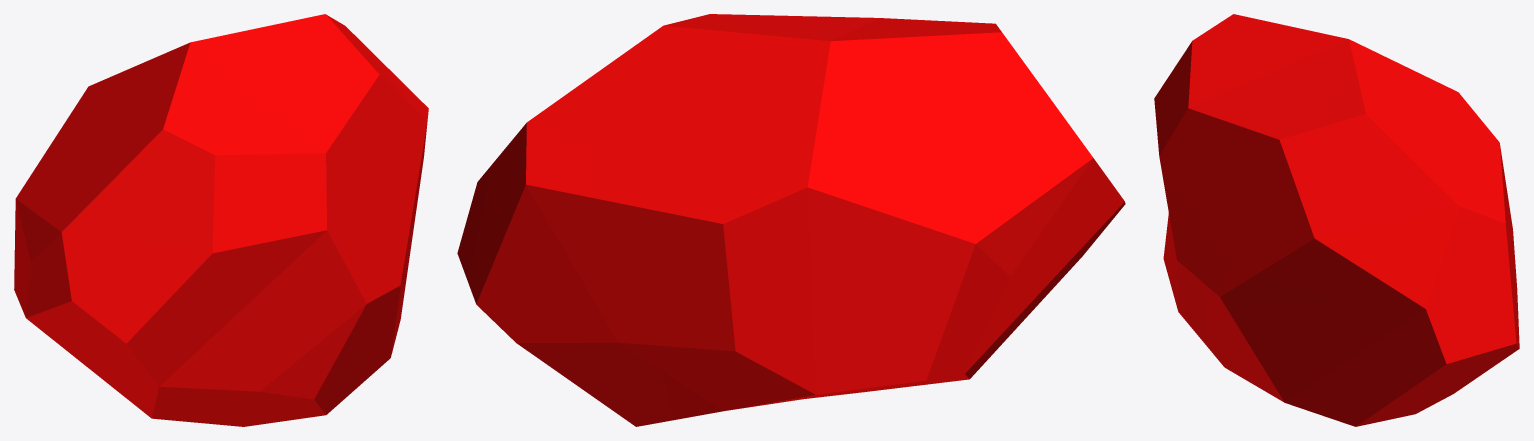
File: Yeux_LowPoly_V2.fbx
3 renders of one model, left to right at view 1: azimuth 30°, elevation 25°; view 2: azimuth 150°, elevation 25°; view 3: azimuth 270°, elevation 25°, orthographic. The views are drawn at different scales.
Parts seen in each view (by area): view 1: retopo_yeux; view 2: retopo_yeux; view 3: retopo_yeux.
Boxes of the visible parts, x1,y1,x2,y2 form: retopo_yeux: (14,14,428,426); retopo_yeux: (457,14,1125,426); retopo_yeux: (1154,14,1519,426).
Bounding box in the file's own units: 55.71 × 39.28 × 41.1.
